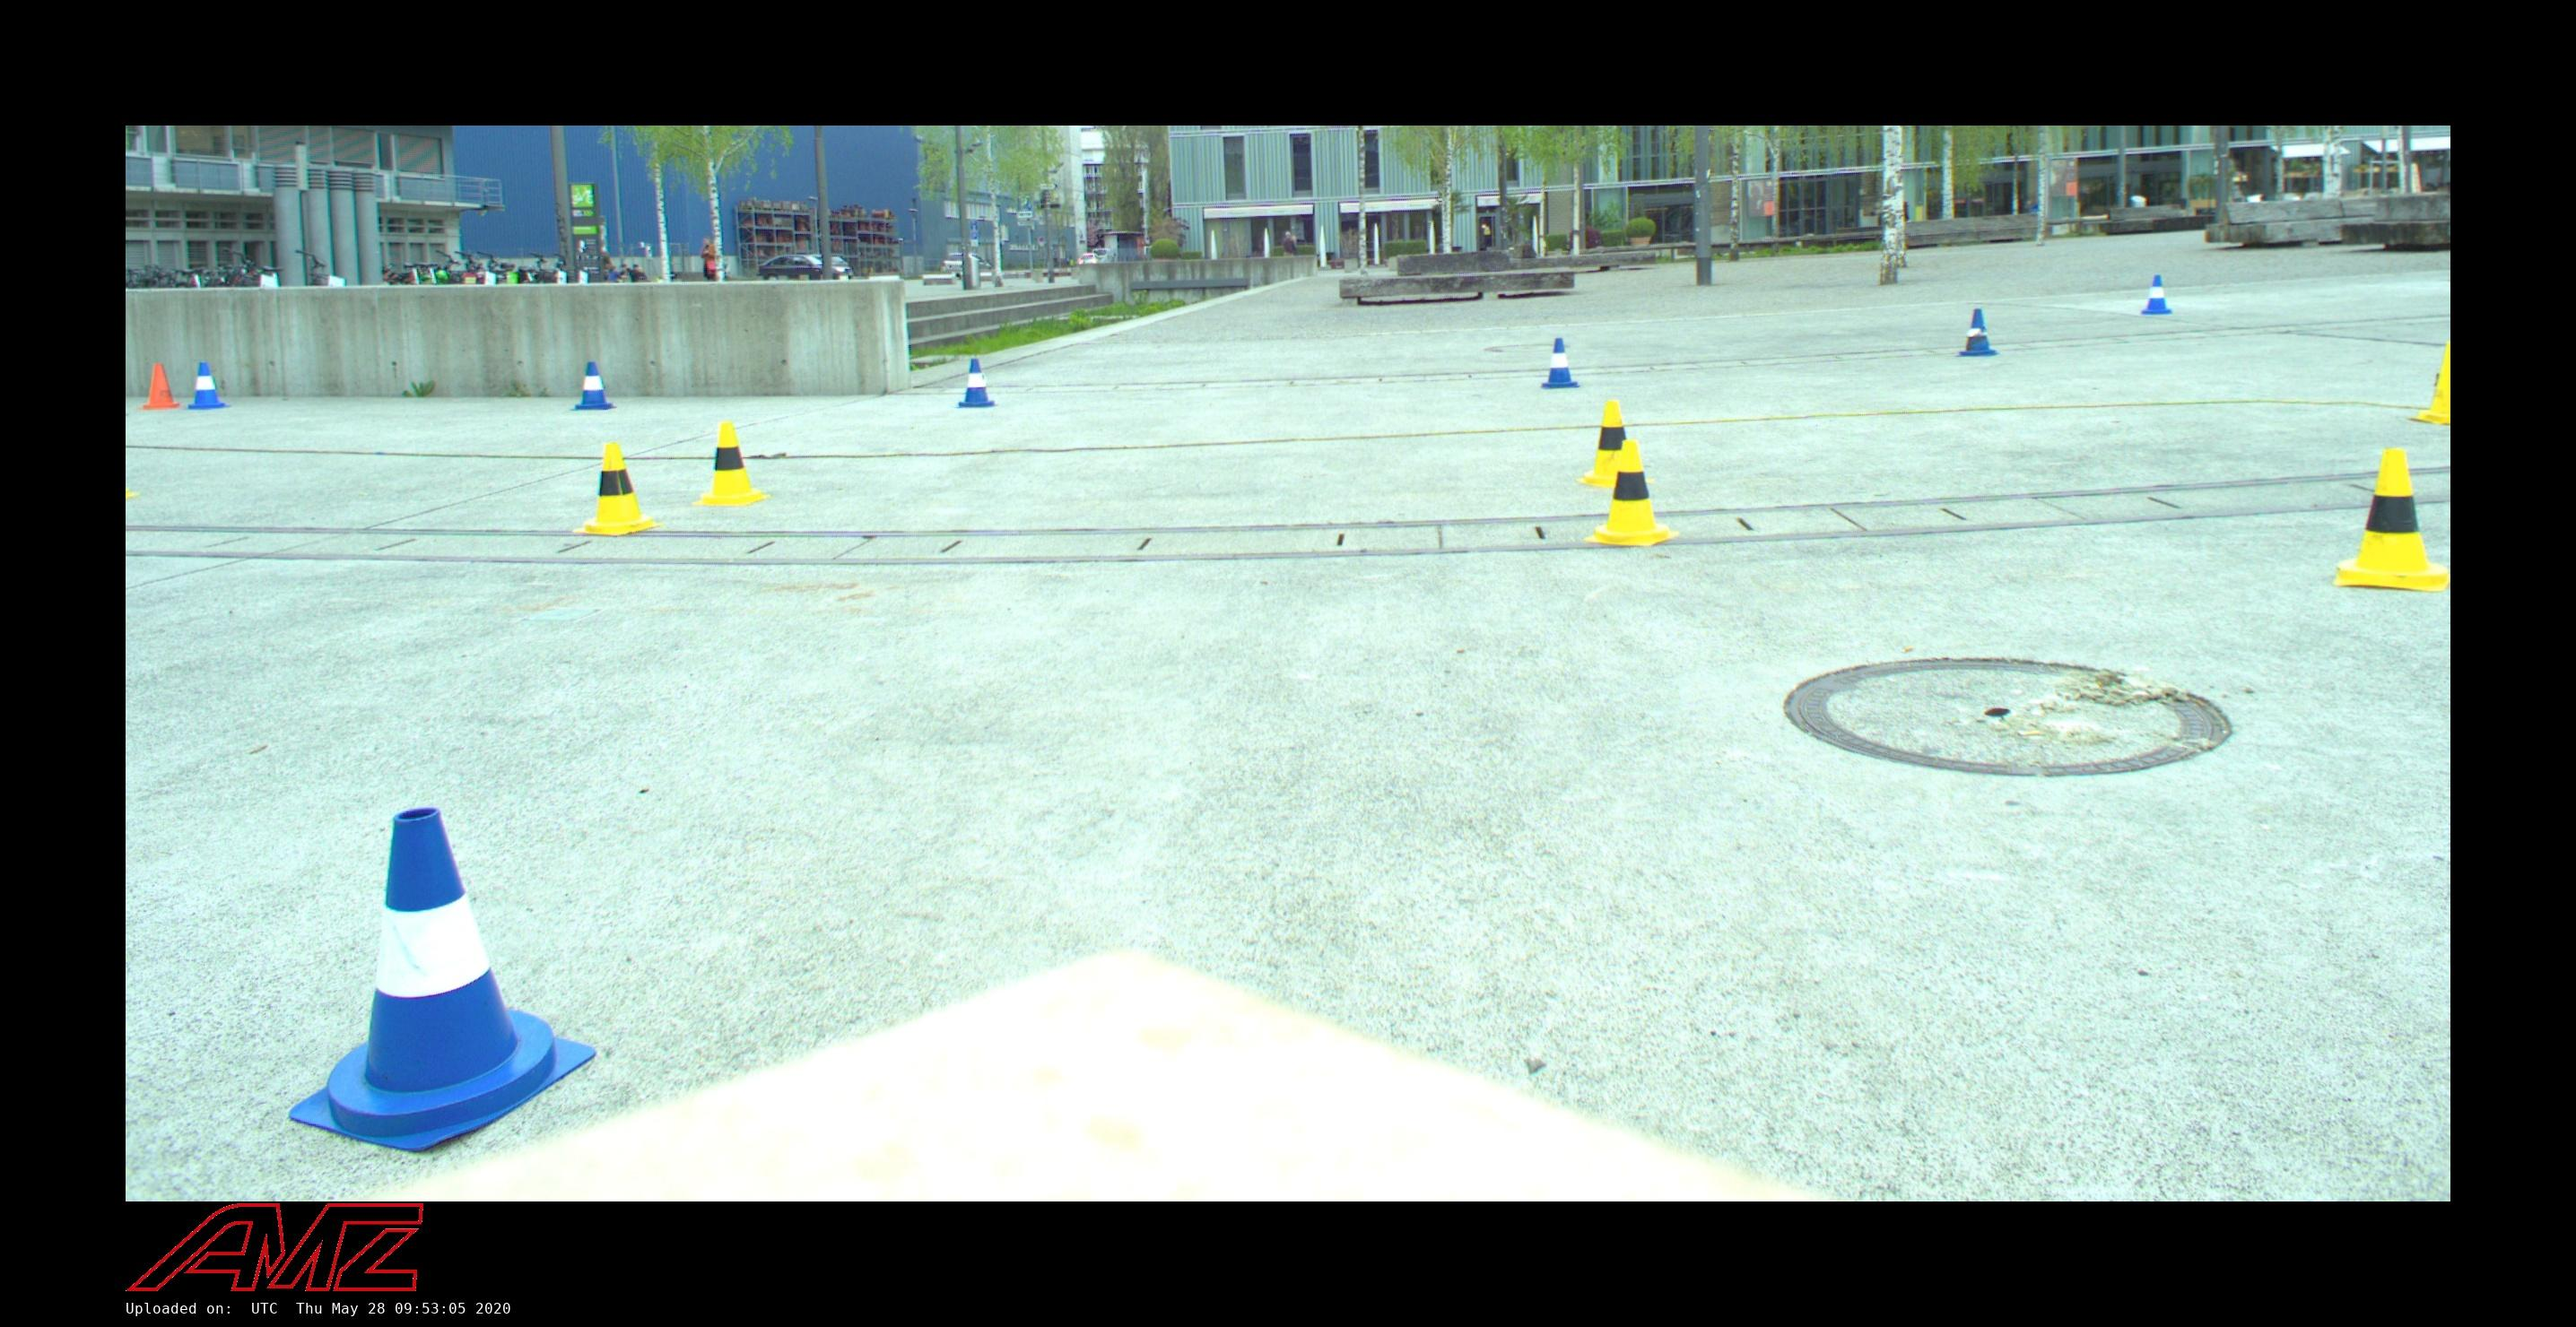blue_cone: (288, 812, 597, 1153), (1951, 308, 2004, 355), (1537, 337, 1584, 388), (570, 361, 616, 411), (186, 362, 230, 408), (955, 359, 997, 406), (2141, 274, 2173, 315)
orange_cone: (137, 362, 183, 408)
yellow_cone: (2329, 450, 2449, 591), (1581, 442, 1677, 548), (574, 442, 660, 537), (1576, 398, 1650, 486), (692, 423, 770, 506)
